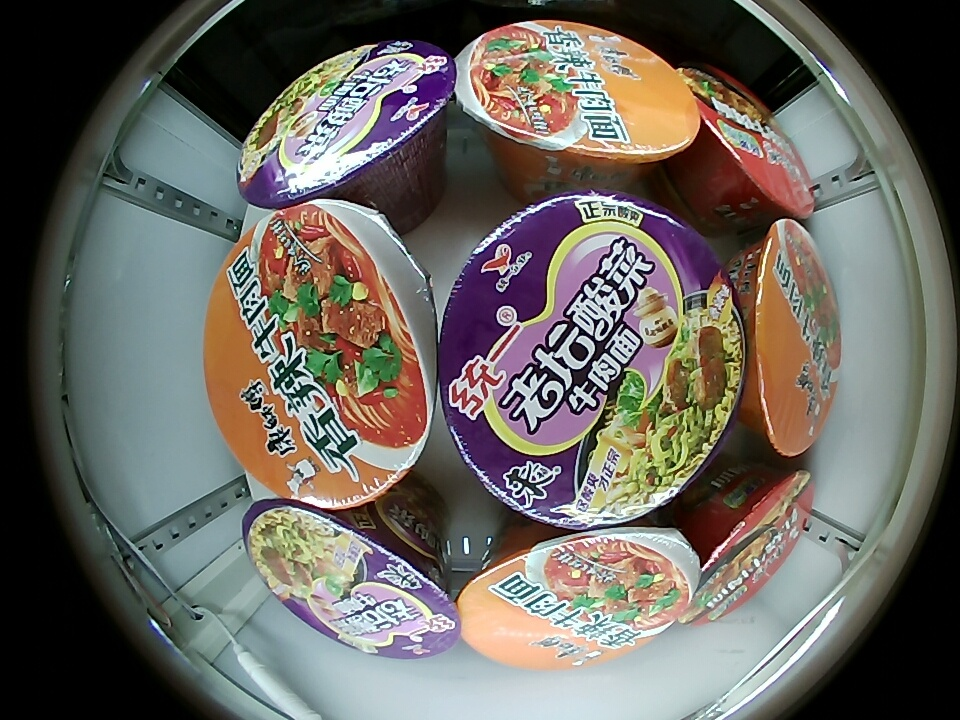hongshaoniurou: (680, 62, 815, 221), (683, 466, 814, 626)
laotansuancai: (438, 192, 744, 528), (236, 38, 457, 210), (244, 499, 461, 659)
xianglaniurou: (203, 202, 440, 509), (453, 20, 699, 169), (458, 527, 694, 669), (746, 220, 840, 458)
